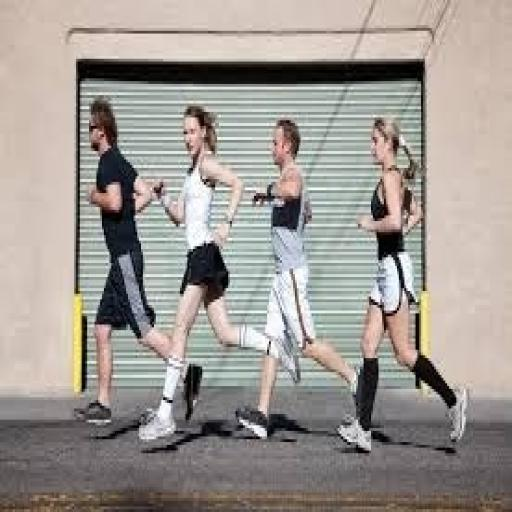running: (336, 112, 471, 456), (74, 95, 204, 434)
